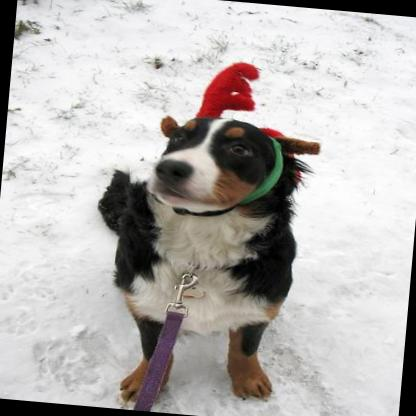Bernese_mountain_dog: (78, 105, 314, 416)
